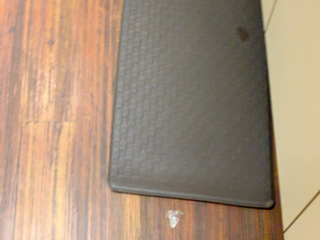Obstacle: (116, 3, 271, 209)
